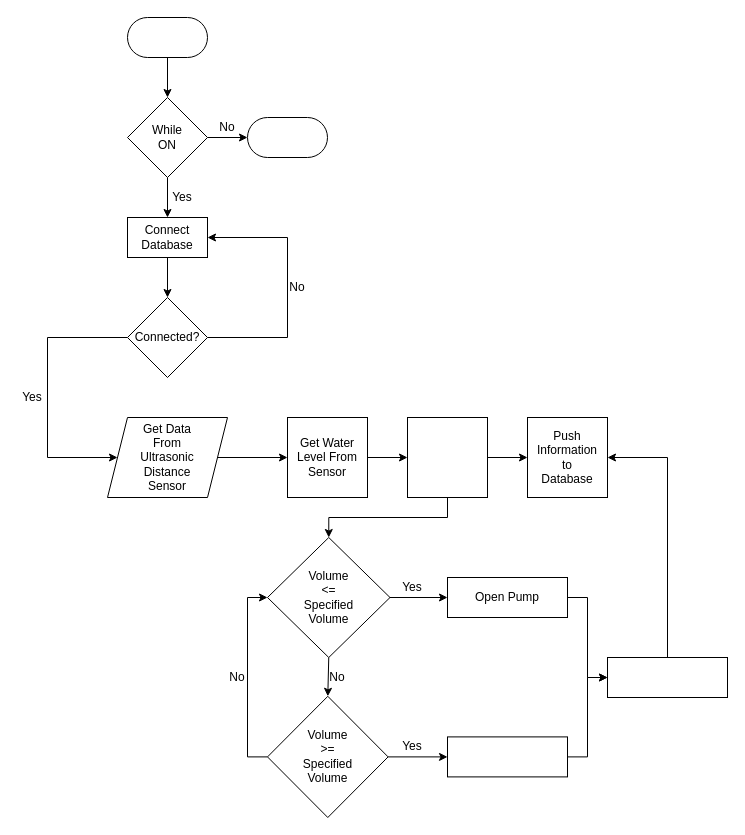
The diagram is 745 pixels wide and 835 high, and some of its shapes have lost their labels. The centre of each missing label's shape, as x and y in pixels:
Calculate Volume: [447,457]
Check Pump State: [667,677]
Close Pump: [507,756]
END: [287,137]
START: [167,37]
